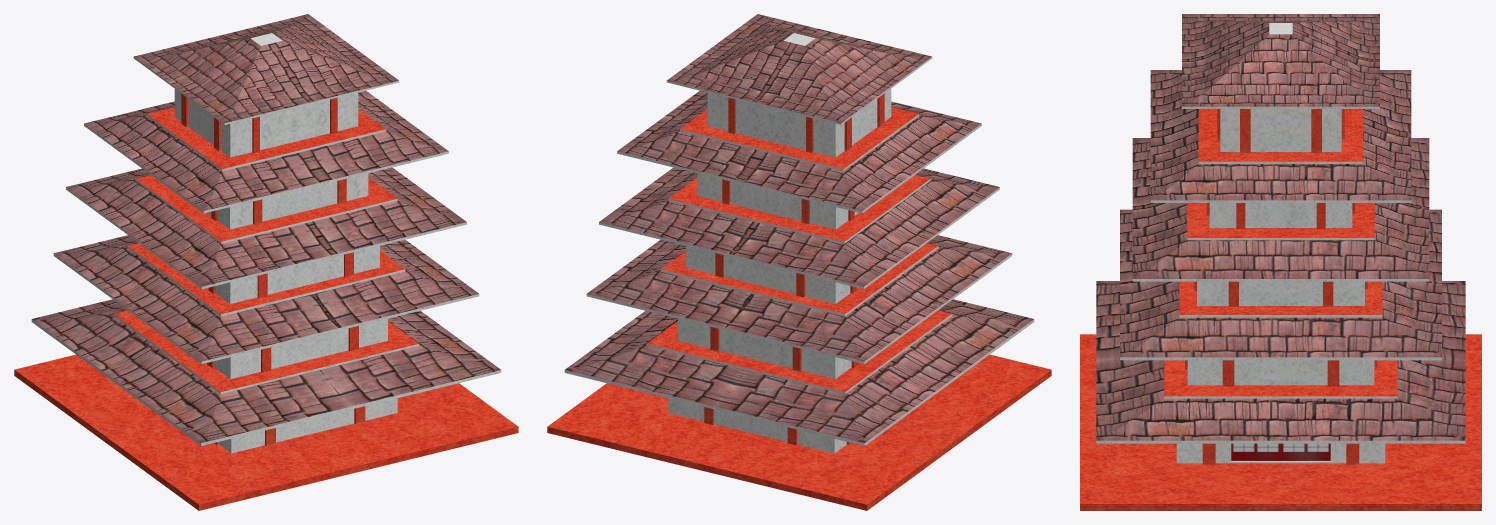
Rendered from Ext Build 2.obj.
3 renders of one model, left to right at view 1: azimuth 30°, elevation 25°; view 2: azimuth 150°, elevation 25°; view 3: azimuth 270°, elevation 25°, orthographic. The views are drawn at different scales.
Parts seen in each view (by area): view 1: Exterior_Building_2_Plane.163; view 2: Exterior_Building_2_Plane.163; view 3: Exterior_Building_2_Plane.163.
Boxes of the visible parts, x1,y1,x2,y2 form: Exterior_Building_2_Plane.163: (14,14,518,510); Exterior_Building_2_Plane.163: (547,14,1051,510); Exterior_Building_2_Plane.163: (1080,14,1481,510).
Size of the model in its own units: 35 by 38.19 by 35.
Materials: 1 (1 with a texture image).
